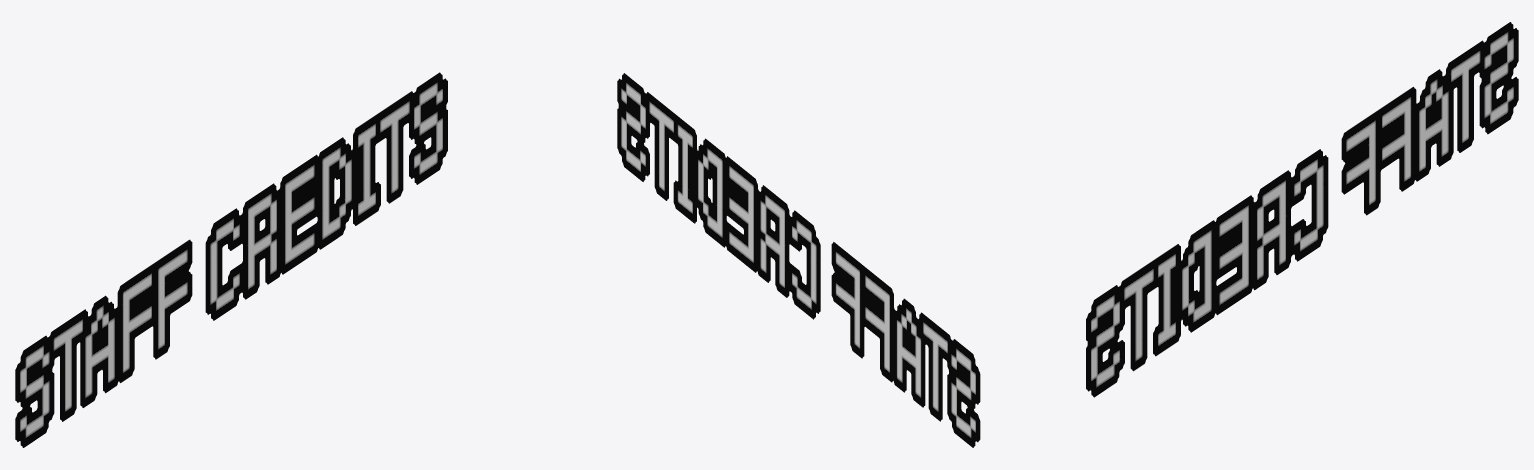
3 renders of one model, left to right at view 1: azimuth 90°, elevation 25°; view 2: azimuth 150°, elevation 25°; view 3: azimuth 270°, elevation 25°, orthographic. The views are drawn at different scales.
Visible parts, largest first — view 1: Joint_0_Object_0; view 2: Joint_0_Object_0; view 3: Joint_0_Object_0.
Boxes of the visible parts, bbox=[...] form: Joint_0_Object_0: bbox=[15, 72, 447, 447]; Joint_0_Object_0: bbox=[617, 73, 980, 447]; Joint_0_Object_0: bbox=[1086, 22, 1518, 397].
Bounding box in the file's own units: 232 × 32 × 147.
Materials: 1 (1 with a texture image).
